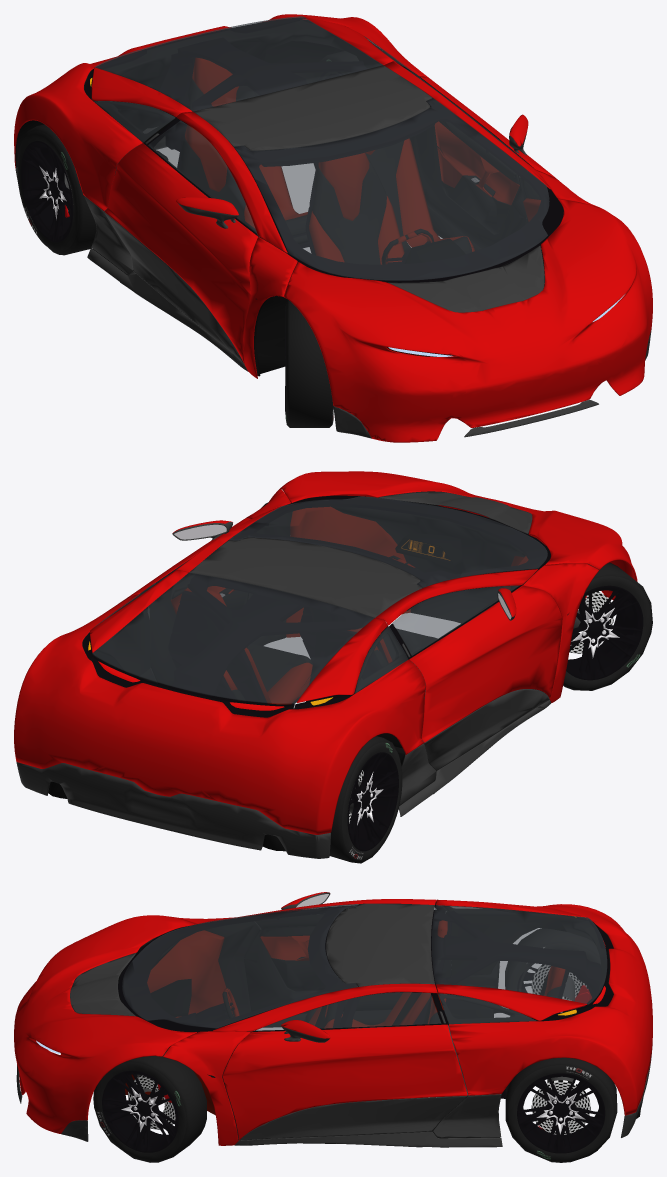
File: car.glb
3 renders of one model, top to bottom at view 1: azimuth 30°, elevation 25°; view 2: azimuth 150°, elevation 25°; view 3: azimuth 270°, elevation 25°, orthographic. The views are drawn at different scales.
Parts seen in each view (by area): view 1: car; view 2: car; view 3: car.
Boxes of the visible parts, bbox=[...] form: car: bbox=[14, 14, 652, 442]; car: bbox=[14, 471, 652, 863]; car: bbox=[14, 892, 652, 1162].
Bounding box in the file's own units: 3.91 × 1.77 × 6.7.
Materials: 21 (5 with a texture image).
